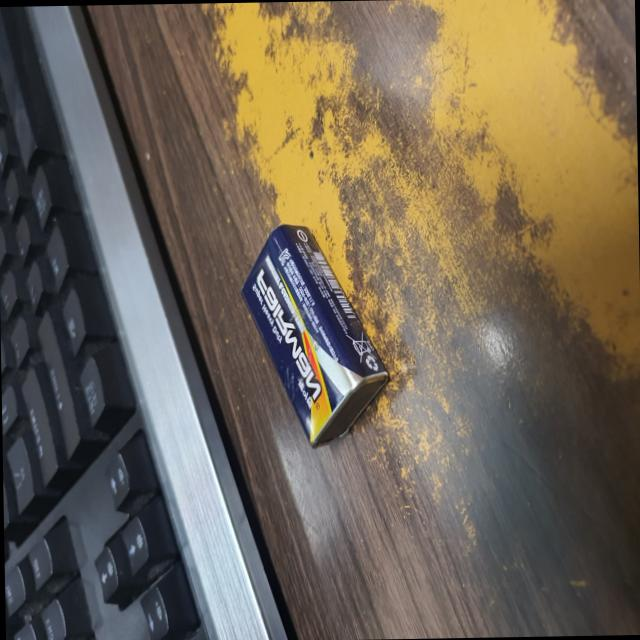battery-etc-etc: (235, 212, 395, 452)
